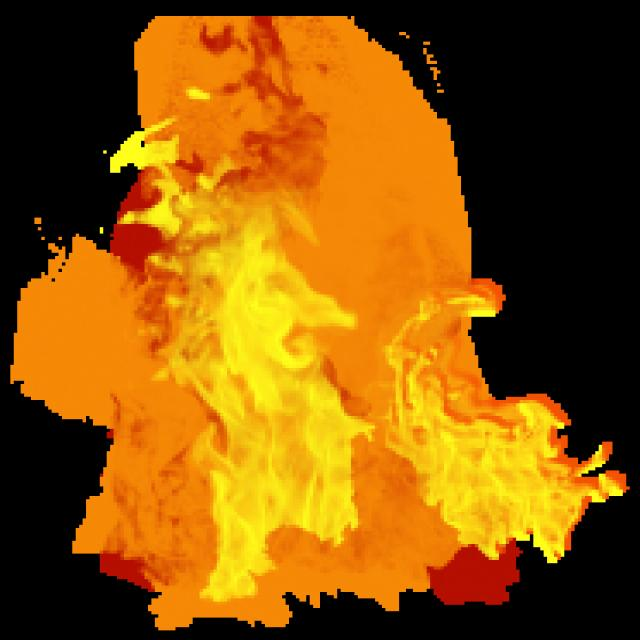fire: (13, 21, 603, 594)
